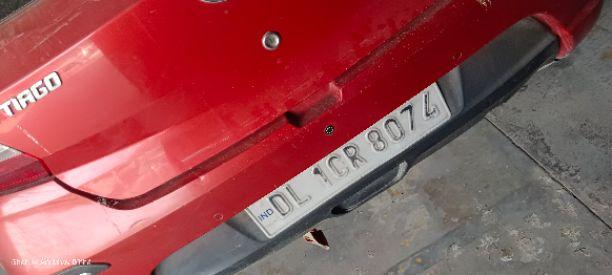license_plate: (1, 0, 603, 274), (241, 79, 453, 239)
